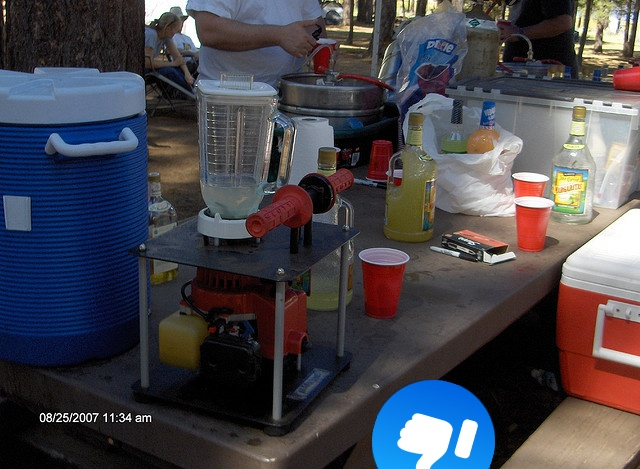like: (372, 380, 495, 469)
